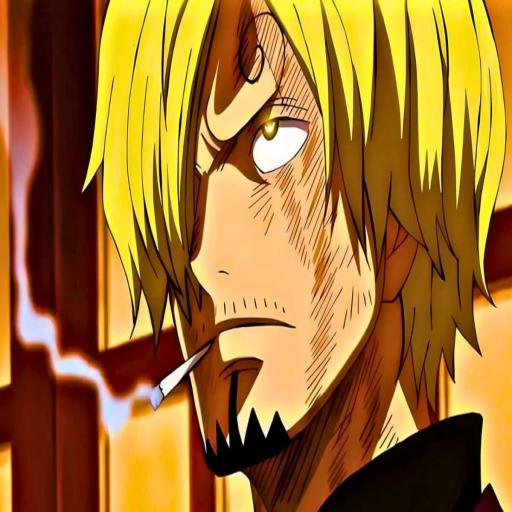sanji: (93, 0, 512, 512)
